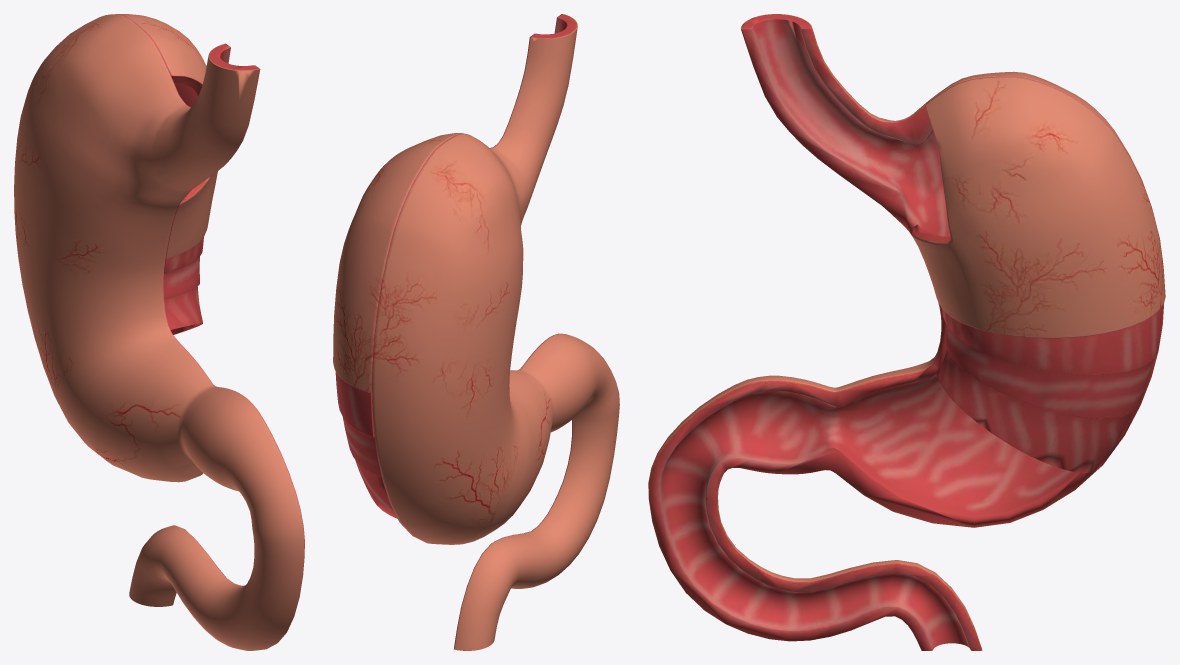
File: PRP_Stomach.glb
3 views of the same model, side by side, from view 1: azimuth 30°, elevation 25°; view 2: azimuth 150°, elevation 25°; view 3: azimuth 270°, elevation 25° (orthographic). The views are drawn at different scales.
Parts seen in each view (by area): view 1: Stomach_lambert1_0; view 2: Stomach_lambert1_0; view 3: Stomach_lambert1_0.
Boxes of the visible parts, box(x1,y1,x2,y2) form: Stomach_lambert1_0: box(14, 14, 304, 650); Stomach_lambert1_0: box(333, 14, 619, 650); Stomach_lambert1_0: box(648, 14, 1165, 650).
Bounding box in the file's own units: 0.0257 × 0.09 × 0.0678.
Materials: 1 (1 with a texture image).
